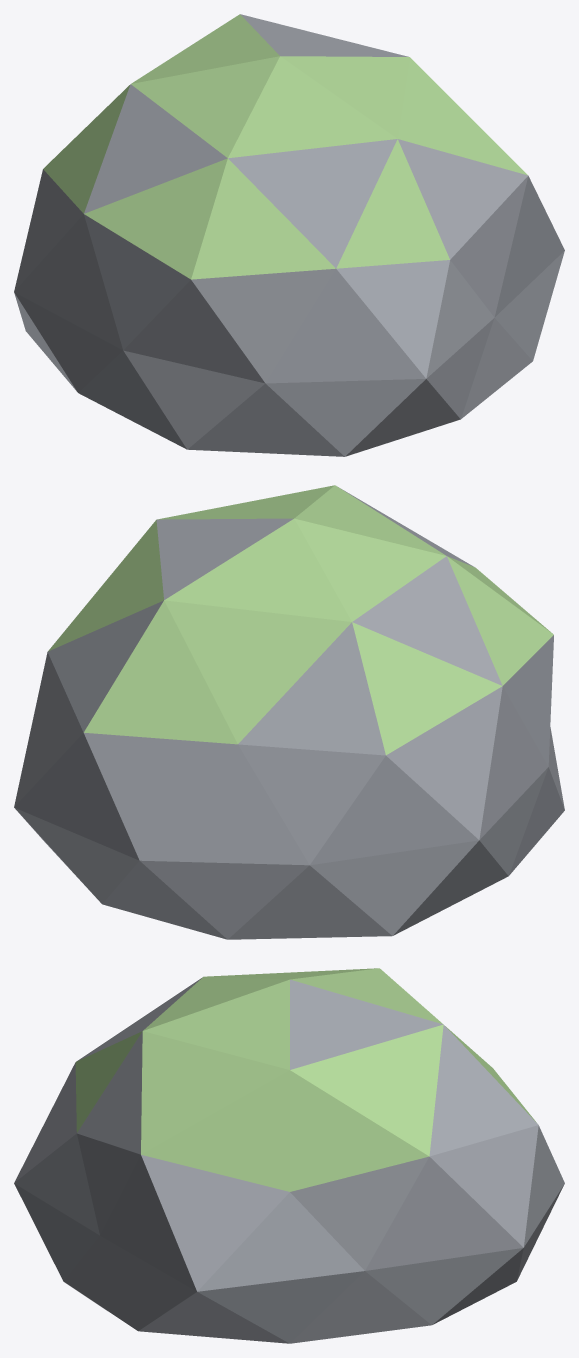
The model's file is VStone_B.fbx.
The picture shows the model from 3 angles, top to bottom: view 1: azimuth 30°, elevation 25°; view 2: azimuth 150°, elevation 25°; view 3: azimuth 270°, elevation 25°; orthographic projection. The views are drawn at different scales.
Parts seen in each view (by area): view 1: VStone_B; view 2: VStone_B; view 3: VStone_B.
Boxes of the visible parts, x1,y1,x2,y2 form: VStone_B: [14, 14, 564, 456]; VStone_B: [14, 485, 564, 939]; VStone_B: [14, 968, 564, 1343].
Size of the model in its own units: 0.7253 by 0.4617 by 0.8039.
